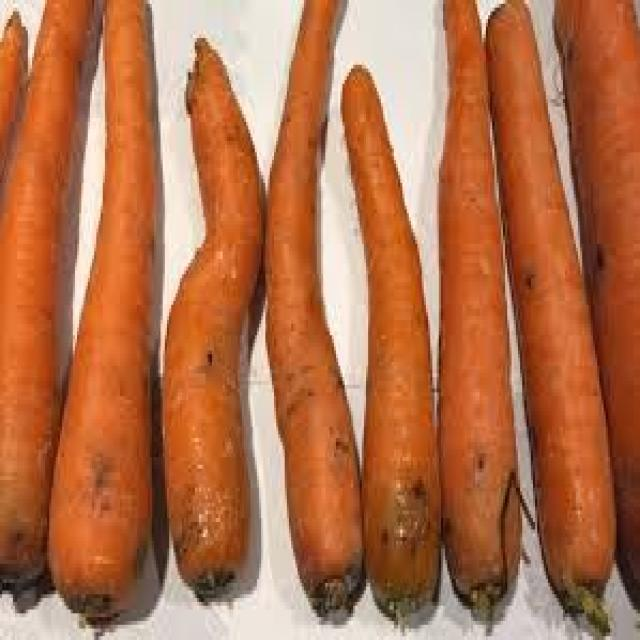Stale_Carrot: (267, 0, 362, 621), (157, 30, 261, 589), (340, 66, 442, 633), (435, 0, 521, 617)
